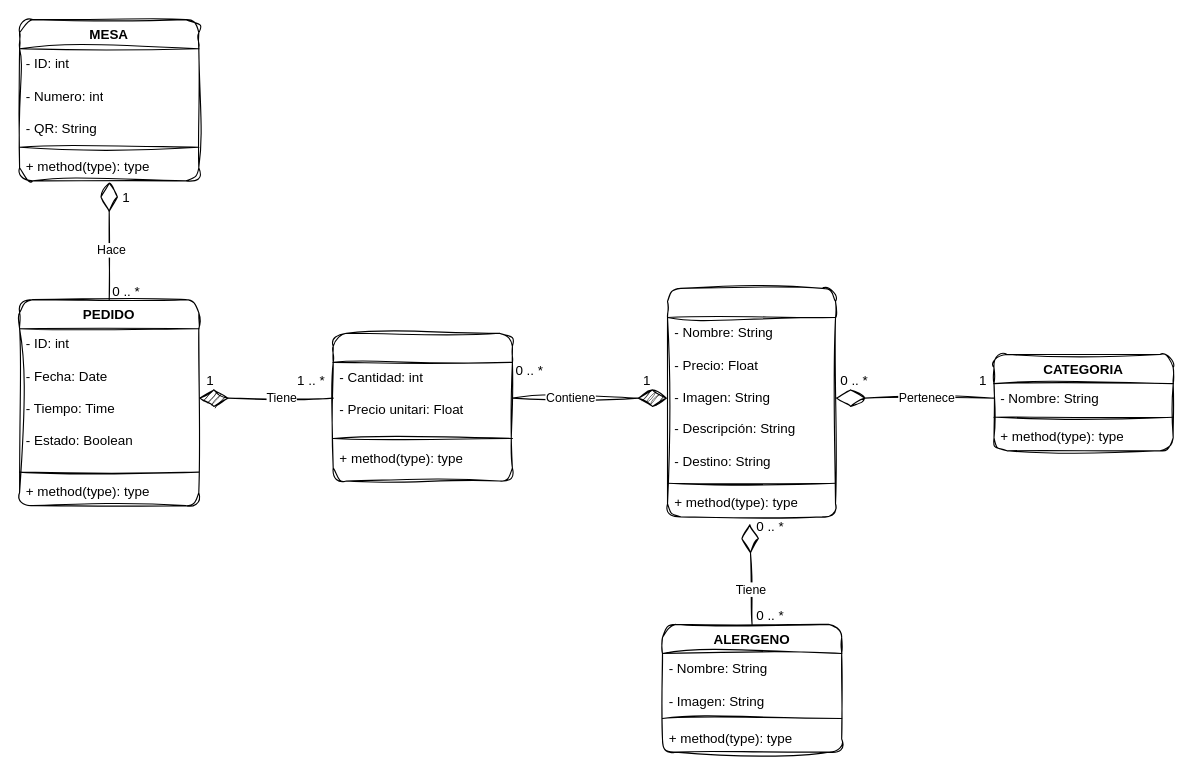
Some shapes in this 1193 by 775 pixel diagram are drawn without their labels. The box of each missing label's shape, as (x1, y1, x2, y2) in pixels:
LINEA-PEDIDO: (332, 332, 512, 481)
PRODUCTO: (666, 287, 836, 517)
